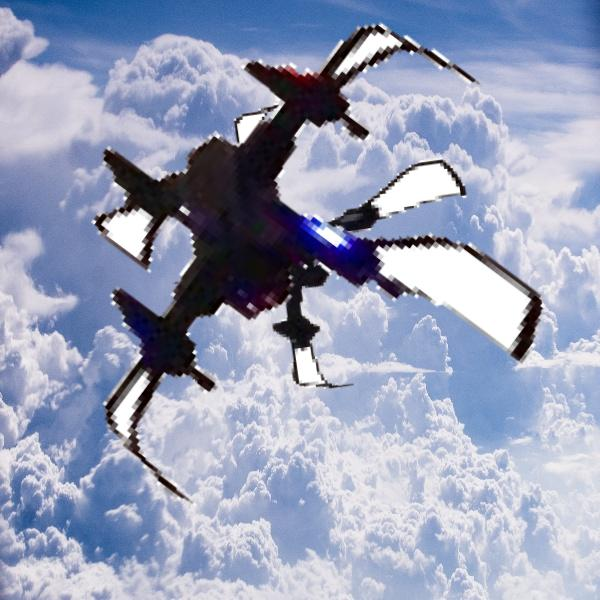drone: (38, 17, 573, 552), (162, 82, 483, 403)
